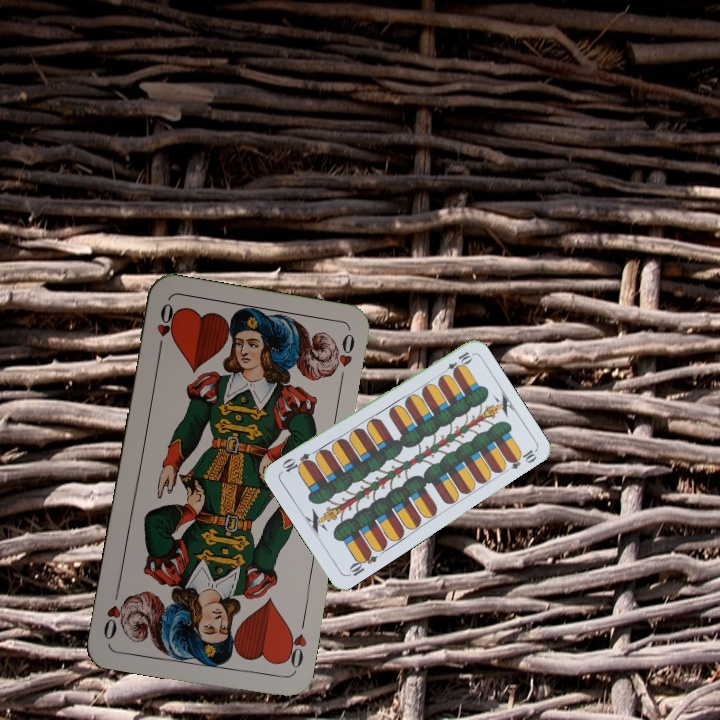E10: (344, 547, 380, 579), (437, 348, 474, 378)
HO: (279, 624, 310, 674), (152, 299, 178, 357)
